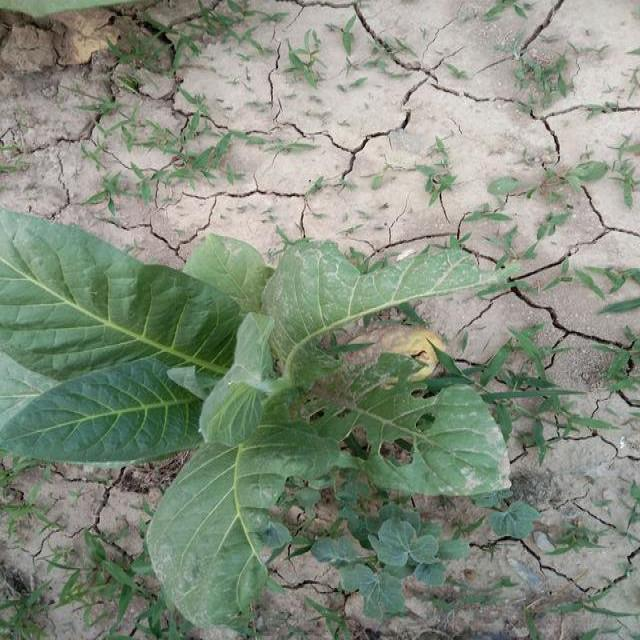crop: (1, 188, 518, 629)
